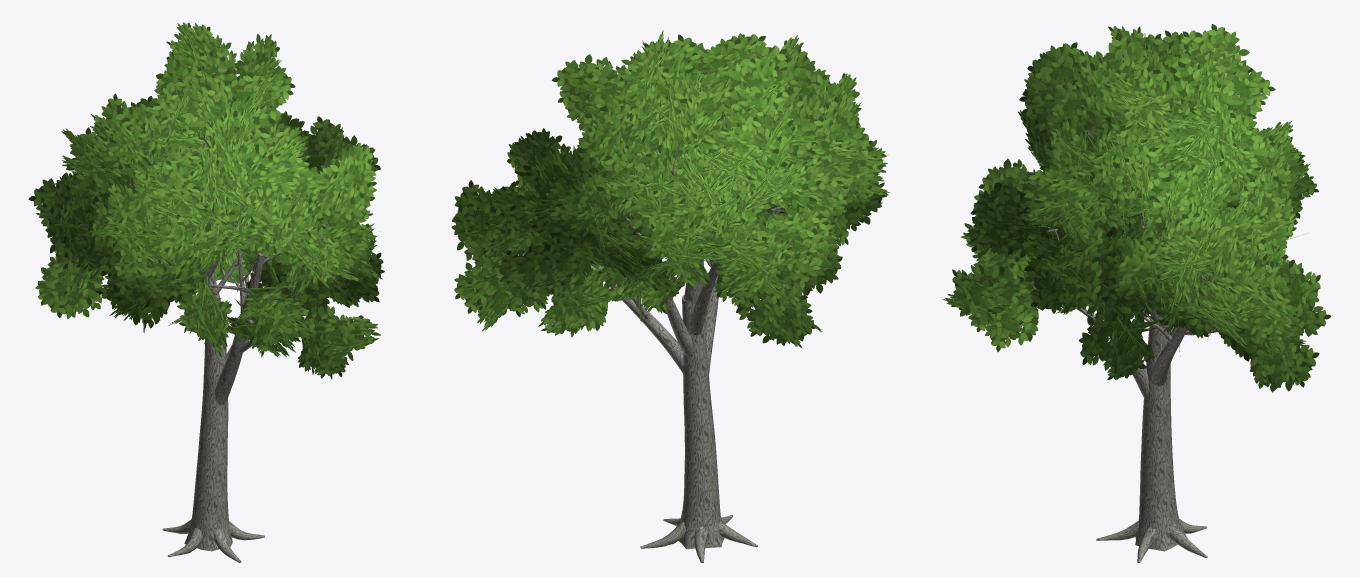
File: beech.glb
The picture shows the model from 3 angles, left to right: view 1: azimuth 30°, elevation 25°; view 2: azimuth 150°, elevation 25°; view 3: azimuth 270°, elevation 25°; orthographic projection. The views are drawn at different scales.
Parts seen in each view (by area): view 1: Leaves, Trunk; view 2: Leaves, Trunk; view 3: Leaves, Trunk.
Part boxes in pixels (x1=…): Leaves: x1=28, y1=22, x2=384, y2=379; Trunk: x1=129, y1=134, x2=329, y2=562; Leaves: x1=451, y1=30, x2=889, y2=347; Trunk: x1=524, y1=143, x2=786, y2=562; Leaves: x1=942, y1=24, x2=1331, y2=392; Trunk: x1=1026, y1=118, x2=1241, y2=562.
Bounding box in the file's own units: 9.39 × 13.18 × 9.37.
2 materials, 2 textured.
